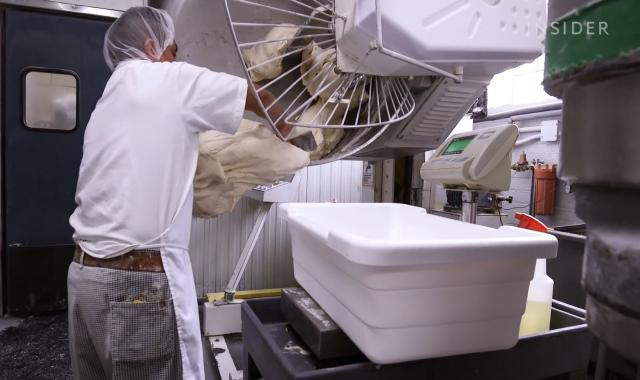hairnet: (104, 7, 176, 61)
